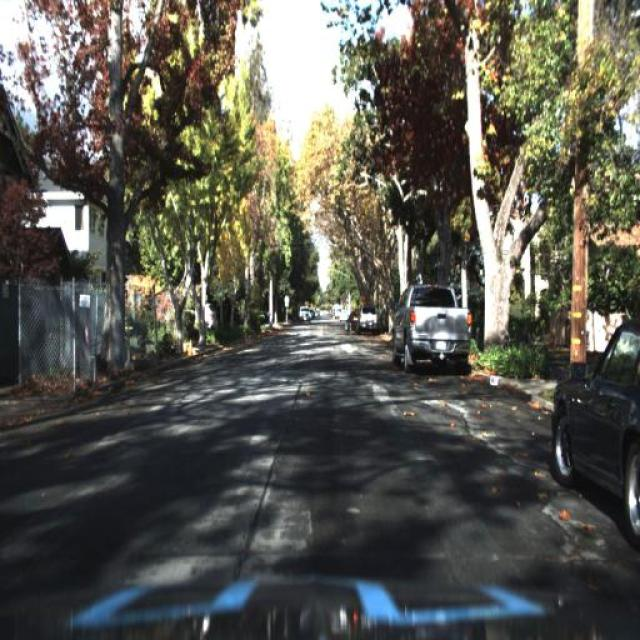car: (550, 313, 640, 542), (387, 268, 481, 388), (388, 284, 474, 374), (355, 304, 380, 340), (358, 306, 382, 338), (347, 310, 362, 330)
